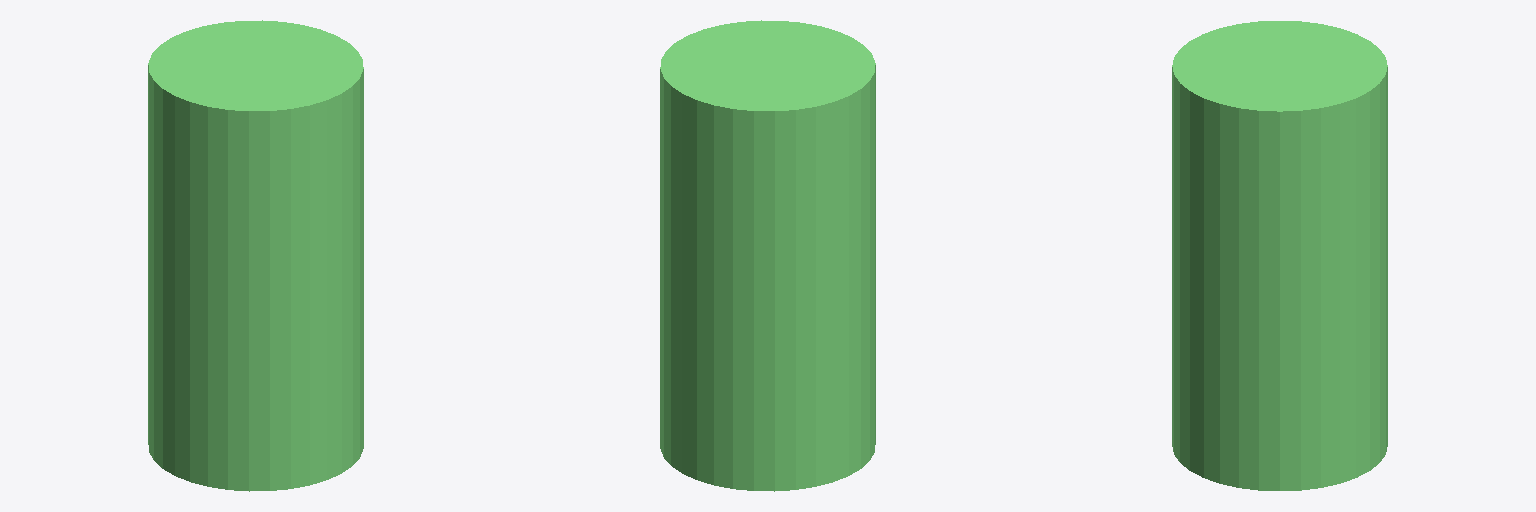
robot.urdf — model.urdf:
<?xml version="0.0" ?>
<robot name="model.urdf">

	<material name="green">
		<color rgba="0.565 0.92 0.565 1"/>
	</material>

	<link name="baseLink">
		<inertial>
			<mass value="0.316"/>
			<inertia  ixx="0.000601" ixy="0.00"  ixz="0.00" iyy="0.000601" iyz="0.00" izz="0.00019597" />
		</inertial>
		<visual>
			<origin xyz="0 0 0" rpy="0 0 0"/>
			<geometry>
				<cylinder length="0.138" radius="0.0355"/>
			</geometry>
			<material name="green"/>
		</visual>
		<collision>
			<origin xyz="0 0 0" rpy="0 0 0"/>
			<geometry>
				<cylinder length="0.138" radius="0.0355"/>
			</geometry>
		</collision>
	</link>
</robot>

--- What the picture shows (computed from the rendered views, not written in the file) ---
3 views of the same robot in one strip: view 1: azimuth 30°, elevation 25°; view 2: azimuth 150°, elevation 25°; view 3: azimuth 270°, elevation 25° (orthographic).
Model model.urdf with 1 links and 0 joints (none), rooted at baseLink, posed all joints at 0.
Visible links, largest first — view 1: baseLink; view 2: baseLink; view 3: baseLink.
Link boxes in pixels (x1,y1,x2,y2): baseLink: (148,20,363,491); baseLink: (660,20,875,491); baseLink: (1172,21,1387,490).
Bounding box of the posed robot: 0.071 × 0.071 × 0.138 m (x, y, z).
Geometry: primitives only (box / cylinder / sphere), no mesh files.